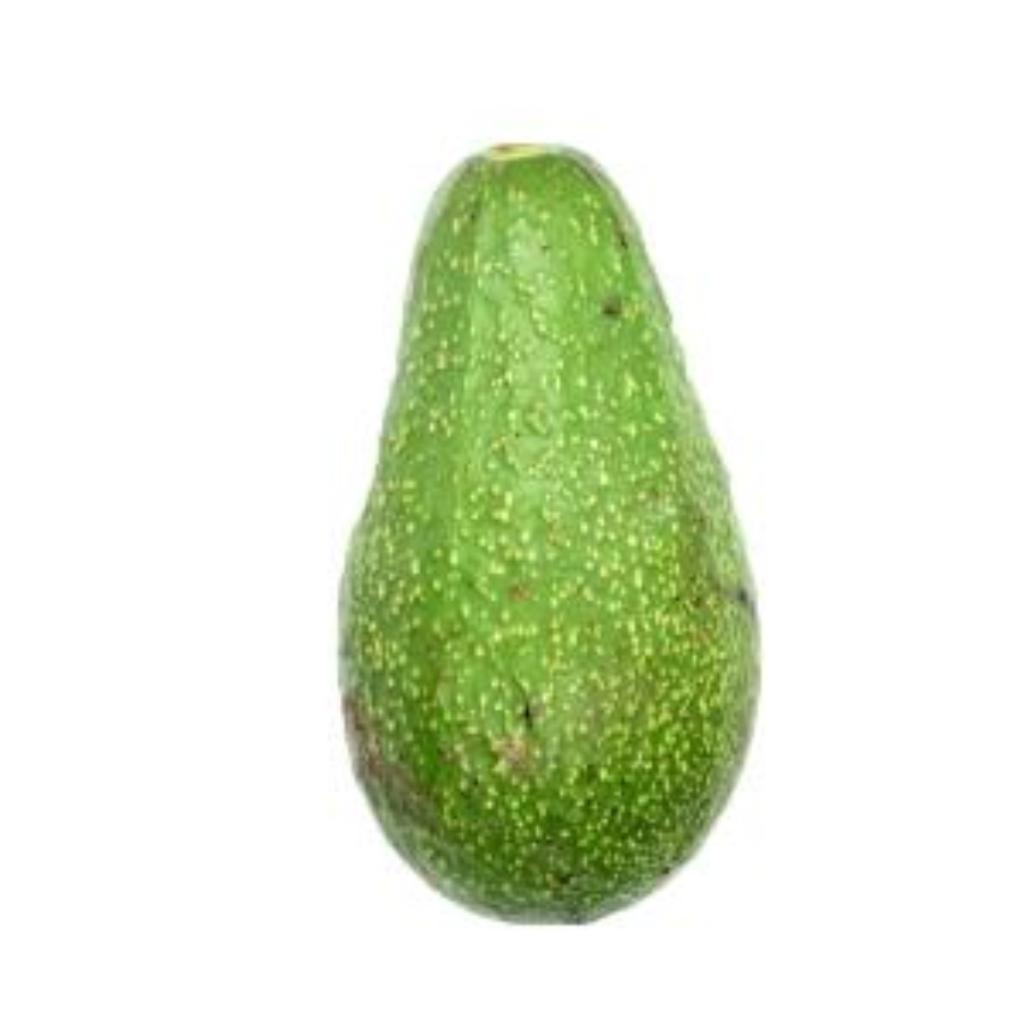cercospora_spot: (284, 114, 812, 934)
